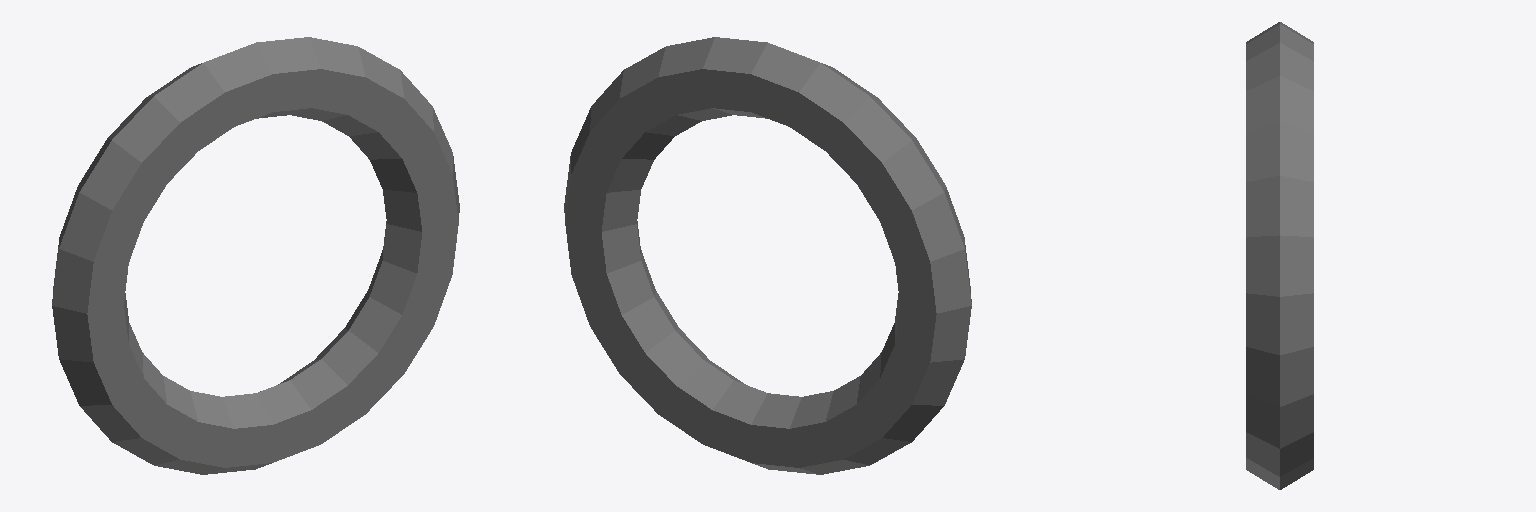
File: Ring.obj
The picture shows the model from 3 angles: view 1: azimuth 30°, elevation 25°; view 2: azimuth 150°, elevation 25°; view 3: azimuth 270°, elevation 25°; orthographic projection.
Visible parts, largest first — view 1: rdmobj00_rdmobj00_rdmobj00.006; view 2: rdmobj00_rdmobj00_rdmobj00.006; view 3: rdmobj00_rdmobj00_rdmobj00.006.
Boxes of the visible parts, x1=… form: rdmobj00_rdmobj00_rdmobj00.006: x1=52, y1=37, x2=459, y2=474; rdmobj00_rdmobj00_rdmobj00.006: x1=564, y1=37, x2=971, y2=474; rdmobj00_rdmobj00_rdmobj00.006: x1=1246, y1=22, x2=1313, y2=489.
Bounding box in the file's own units: 21.45 × 21.45 × 3.12.